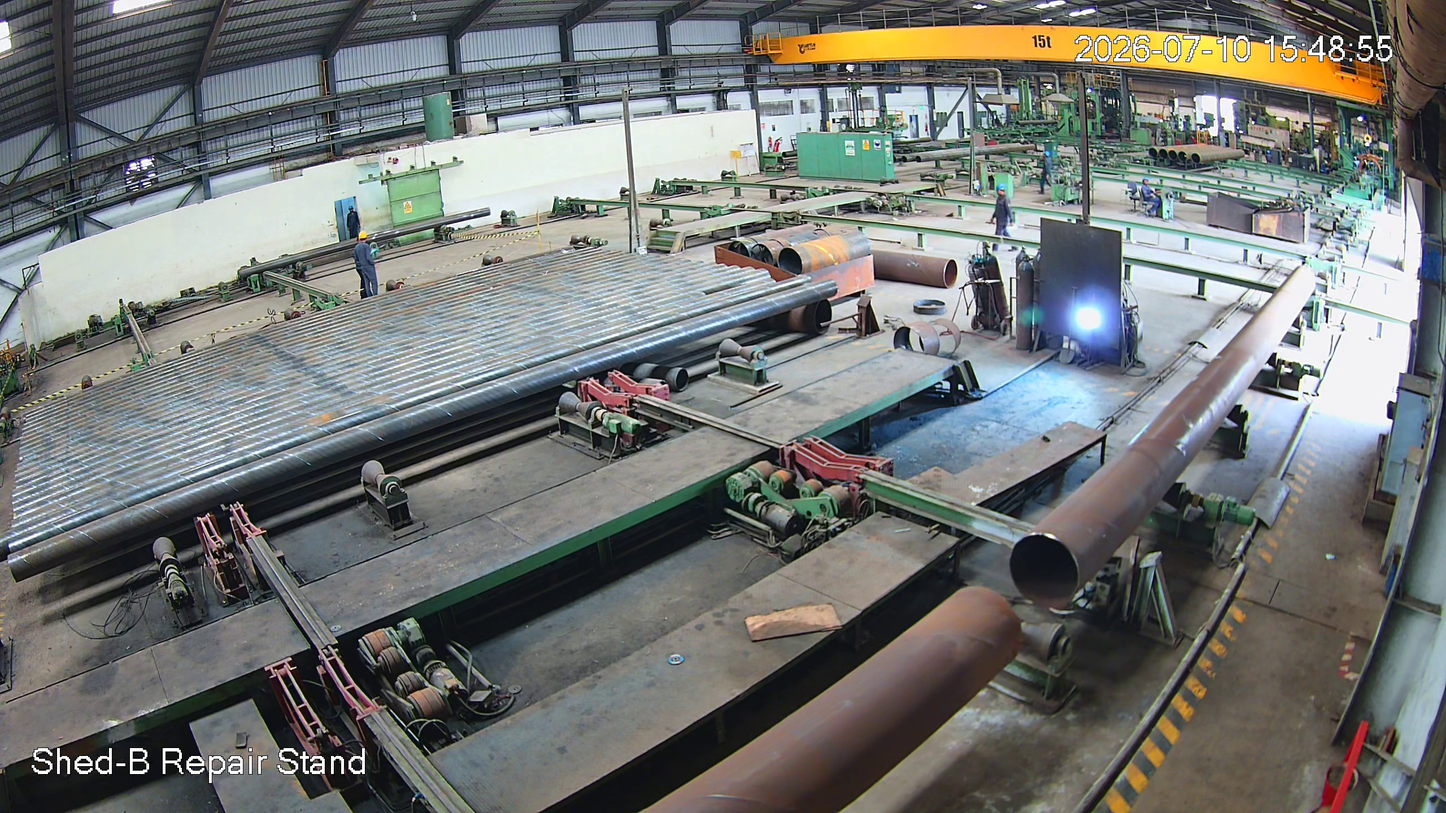Helmet: (357, 231, 372, 249)
Person: (354, 232, 380, 296)
